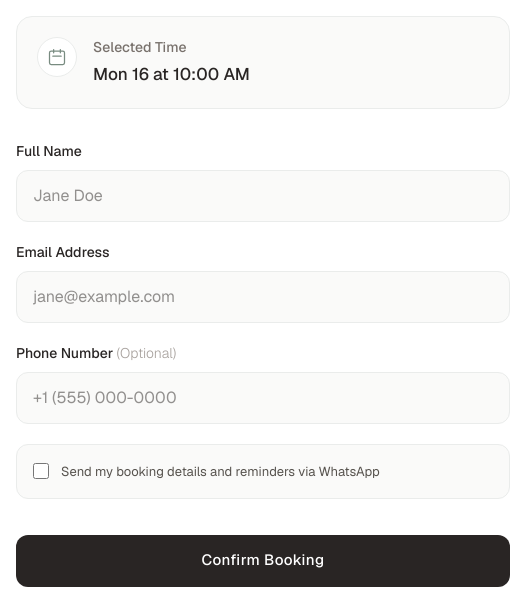
Scenario: PatientIntakeForm Component › should make phone required when WhatsApp opt-in is checked
This screenshot has width=527, height=604.
Click the checkbox labelled "Send my booking details and reminders via WhatsApp": (41, 470) [33,462,49,478]
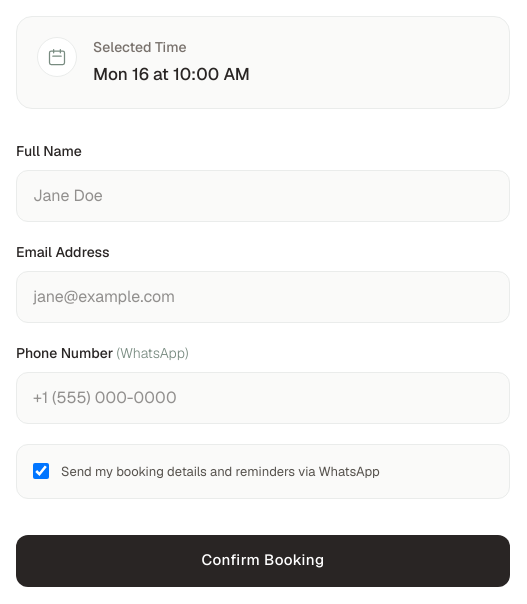
Result: the text "(WhatsApp)" is shown at [117,344,188,362]
